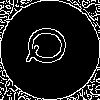Q: (25, 25, 75, 67)
